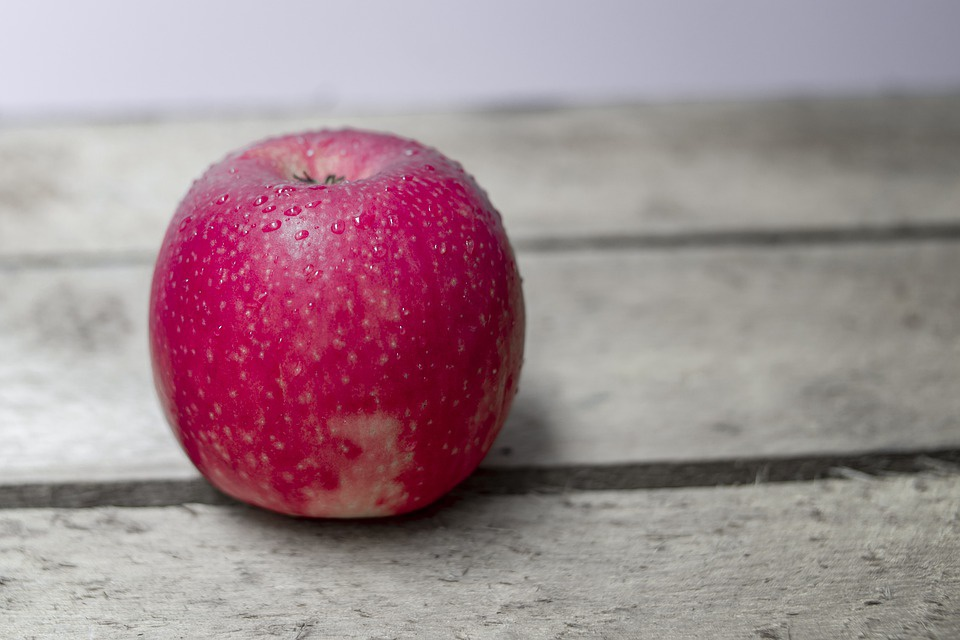apple: (104, 109, 554, 532)
